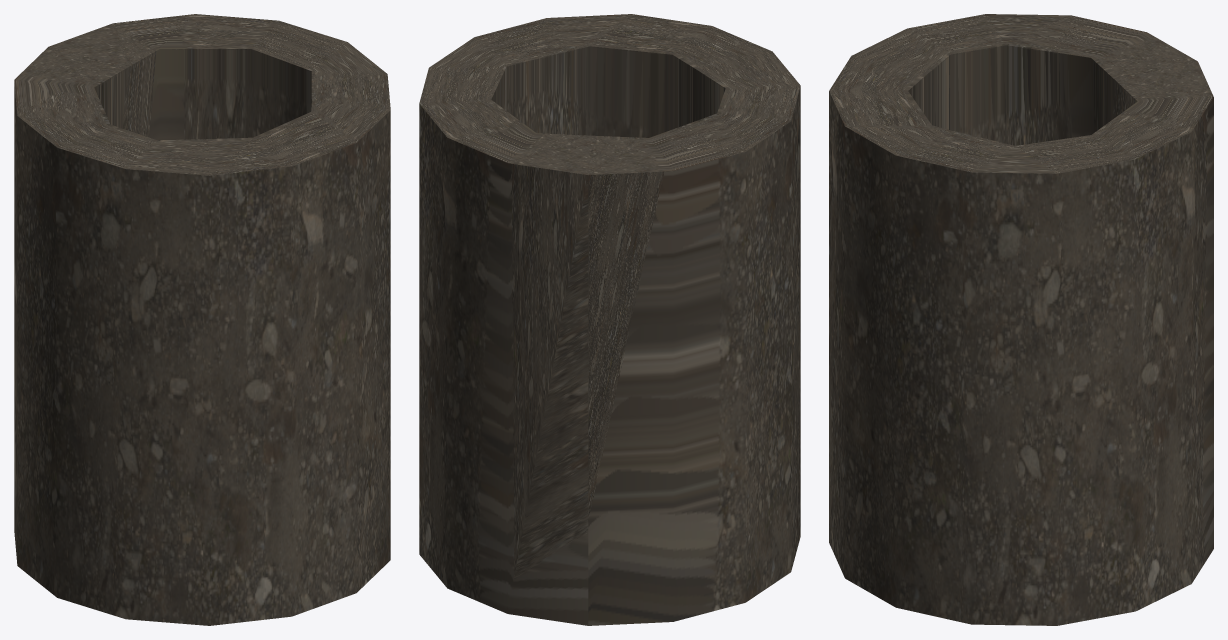
Rendered from Tunnel.fbx.
3 views of the same model, side by side, from view 1: azimuth 30°, elevation 25°; view 2: azimuth 150°, elevation 25°; view 3: azimuth 270°, elevation 25° (orthographic).
Parts seen in each view (by area): view 1: TestTunnel; view 2: TestTunnel; view 3: TestTunnel.
Boxes of the visible parts, box(x1,y1,x2,y2) form: TestTunnel: box(14, 14, 390, 625); TestTunnel: box(419, 14, 800, 625); TestTunnel: box(829, 14, 1213, 625).
Bounding box in the file's own units: 425 × 570 × 433.
1 material, 1 textured.
